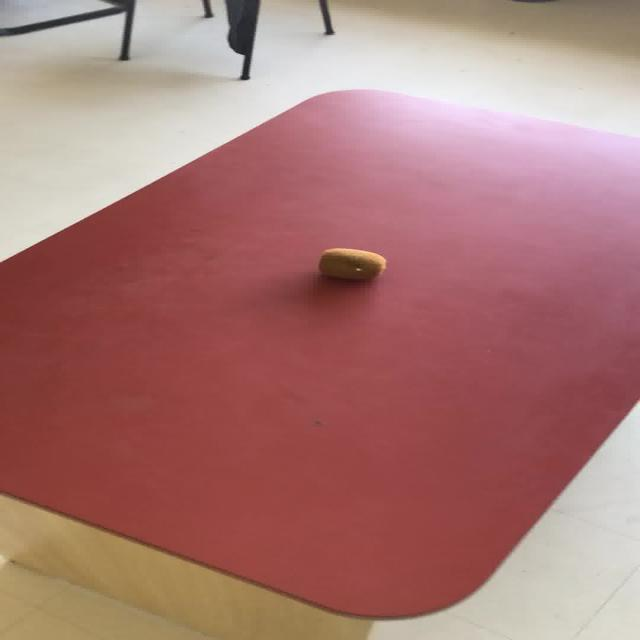kiwi: (317, 247, 386, 280)
